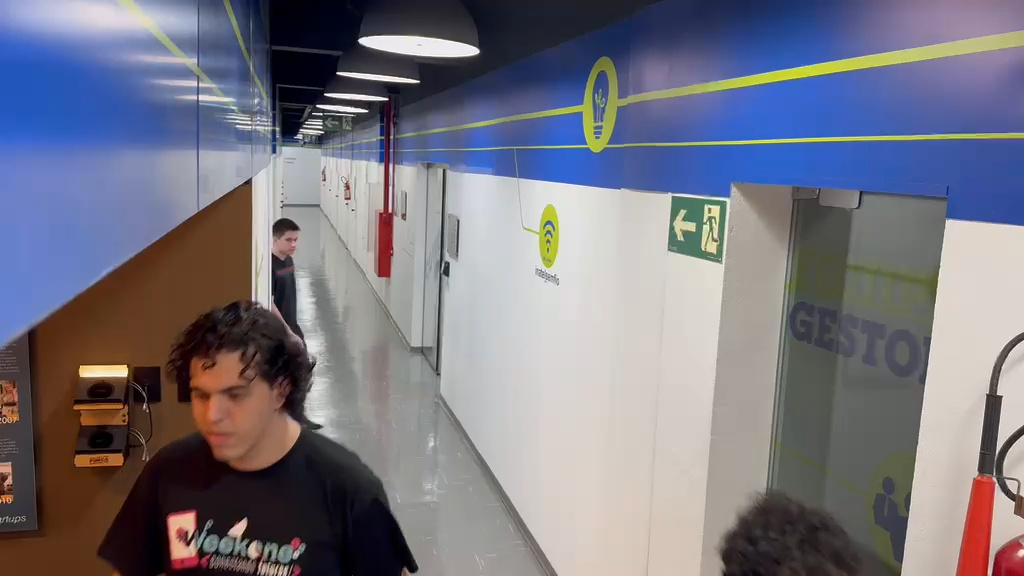person: (95, 299, 420, 572), (719, 491, 884, 574), (270, 217, 302, 335)
